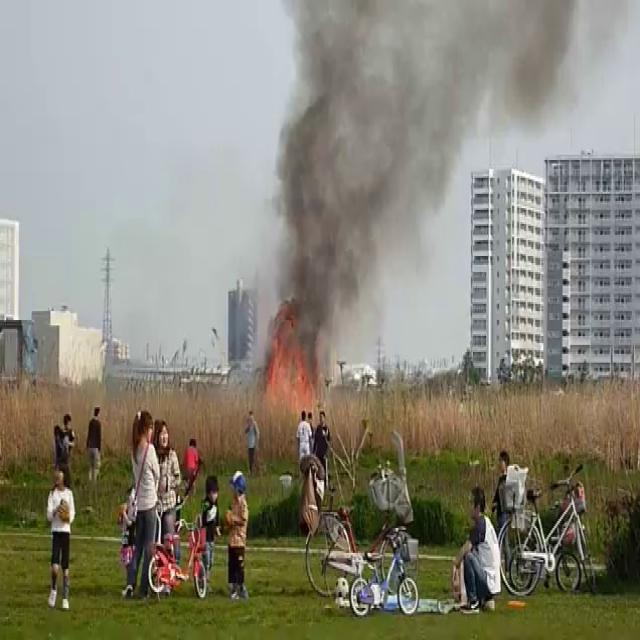Fire: (257, 321, 314, 415)
Smoke: (248, 0, 572, 377)
